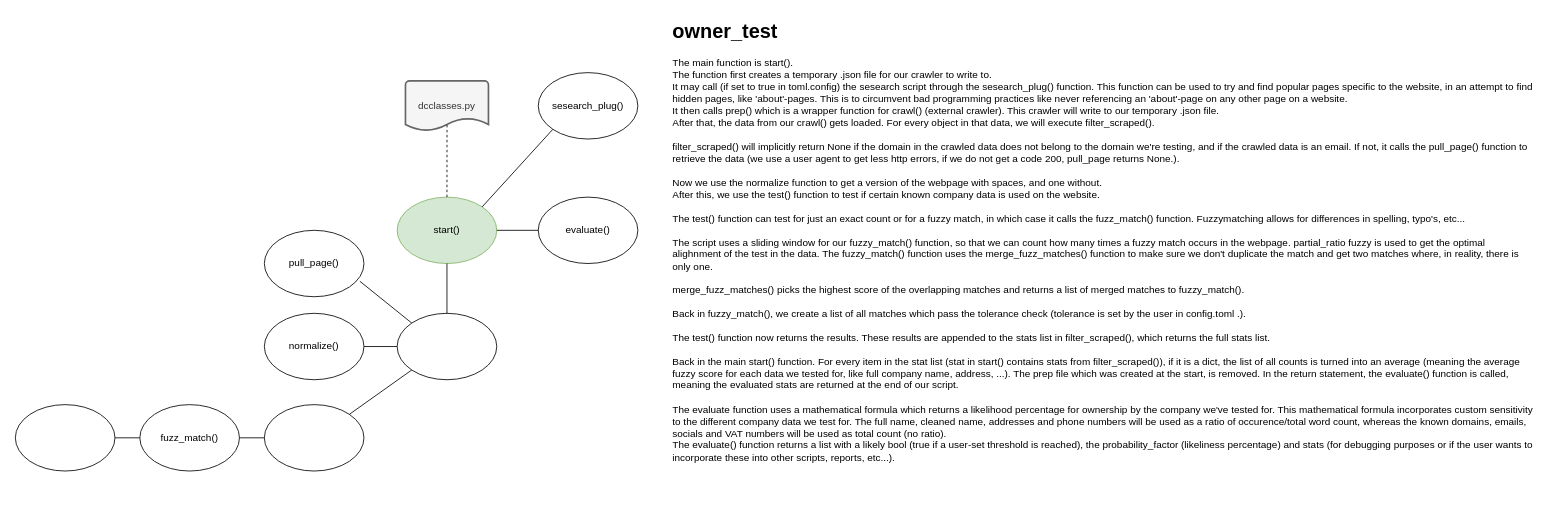
Image size: 1549x512. Some labels were removed from this diagram. The box of each missing label's shape, as (x1, y1, x2, y2) in pixels:
filter_scraped(): (396, 312, 497, 380)
merge_fuzz_matches(): (15, 404, 115, 471)
test(): (264, 404, 364, 471)
